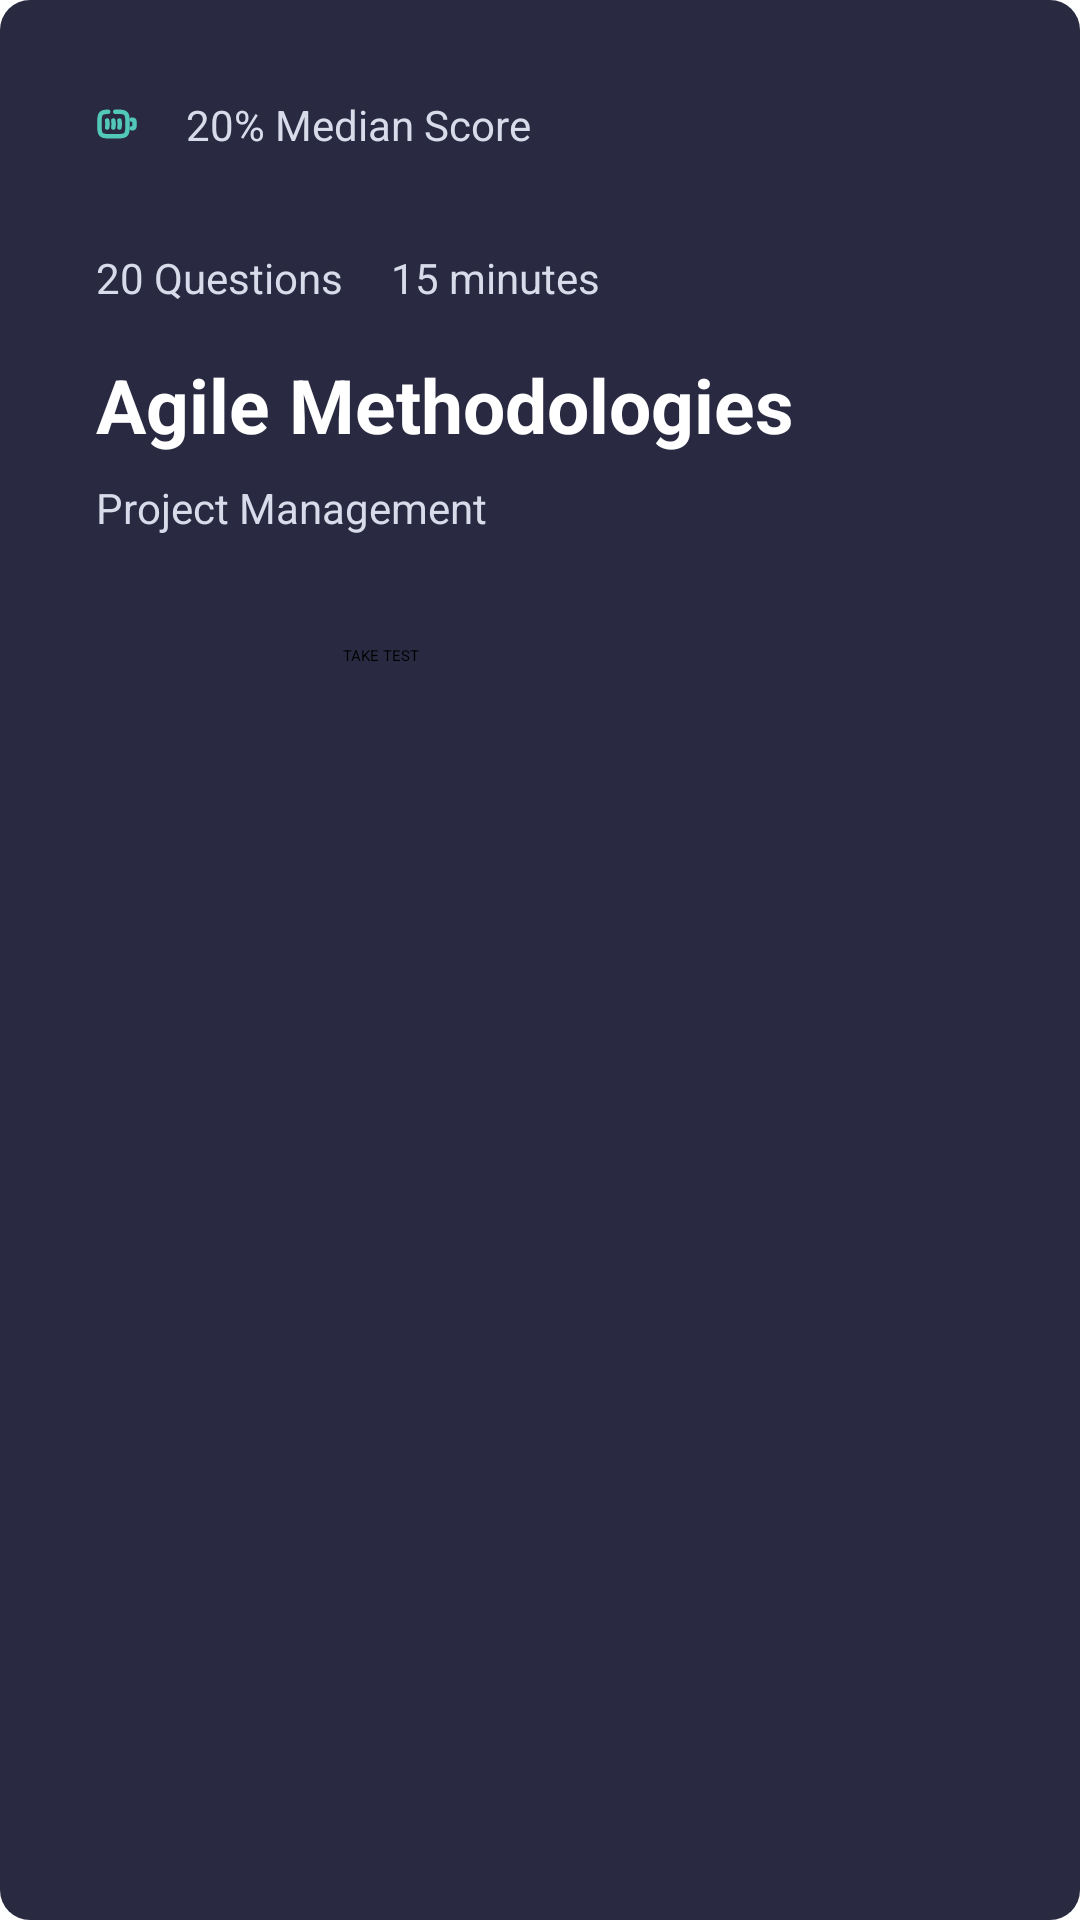

Screen size 1080 × 1920. Icon name, then its box in pixels as {"left": x1, "top": y1, "right": x2, "bottom": y2}:
luna brokenbattery full: {"left": 97, "top": 109, "right": 137, "bottom": 139}
